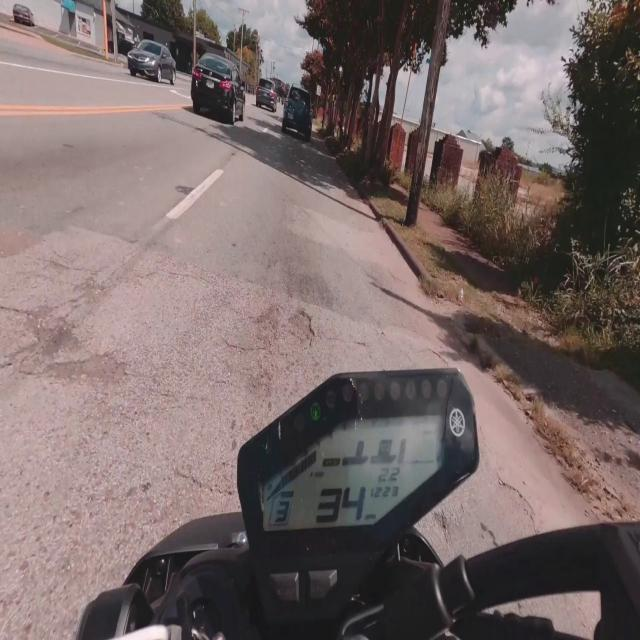car: (191, 54, 245, 124), (127, 40, 175, 84), (282, 85, 311, 142), (256, 79, 277, 112)
motorcycle: (77, 370, 639, 639)
